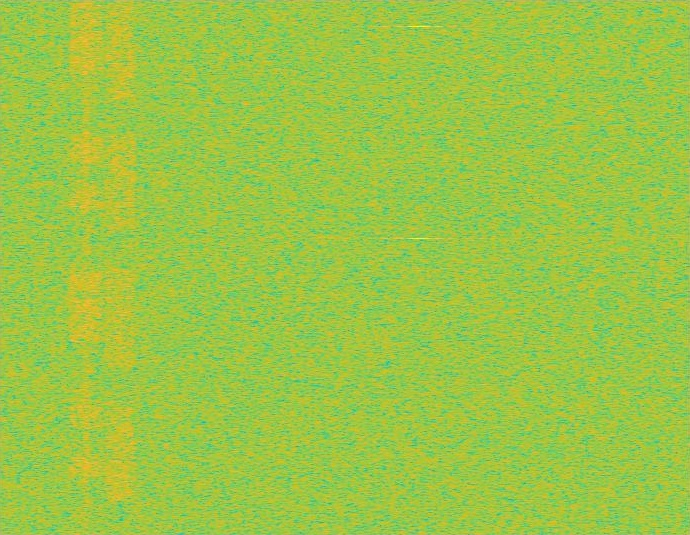5G: (104, 0, 138, 534)
DSSS: (82, 0, 90, 534)
LTE: (69, 0, 104, 534)
Radar: (412, 0, 426, 534)
